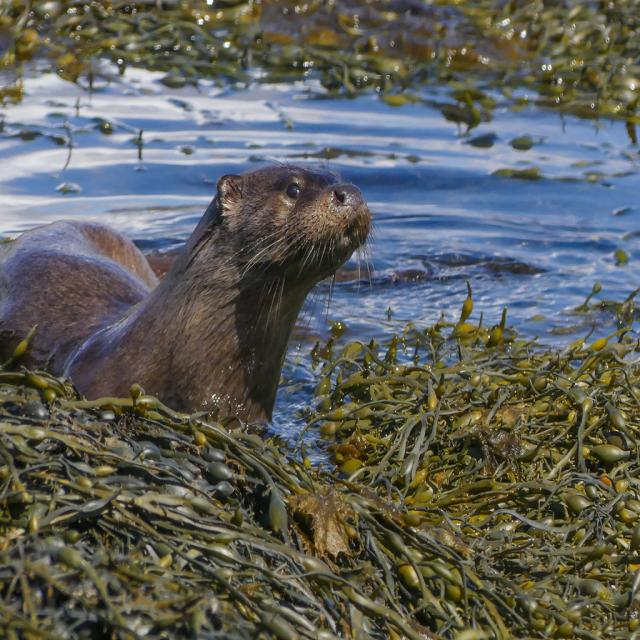otter: (17, 168, 370, 403)
